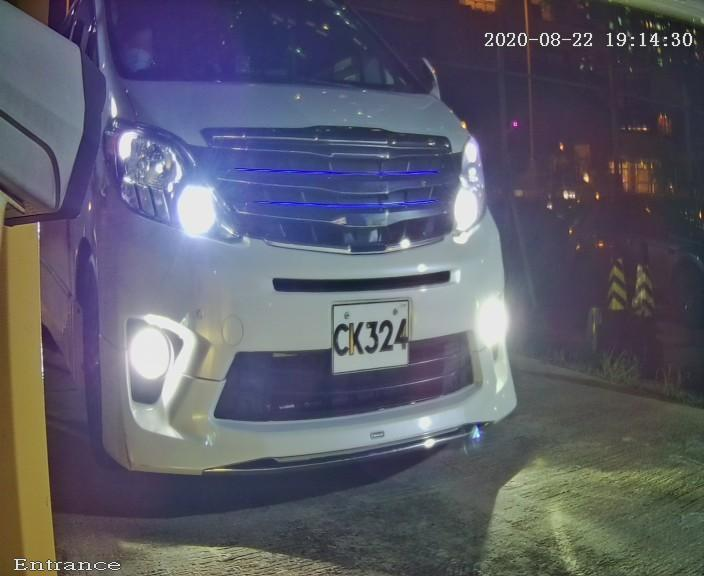Car: (29, 6, 541, 520)
License Plate: (308, 287, 427, 383)
